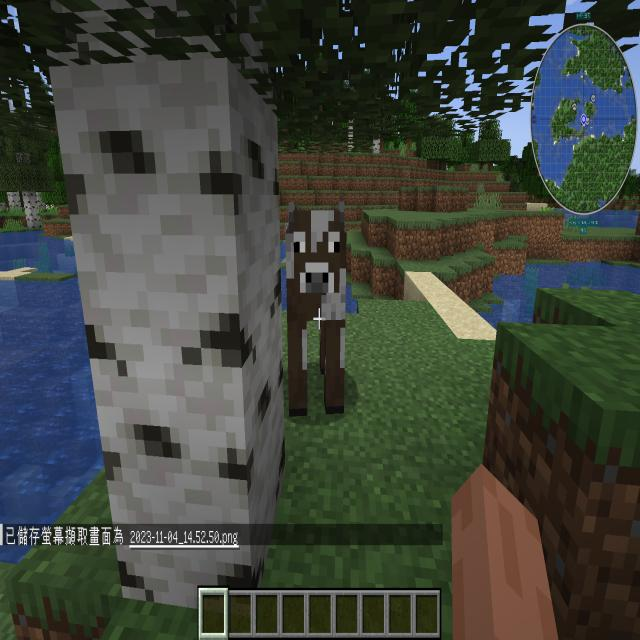cow: (279, 188, 375, 432)
